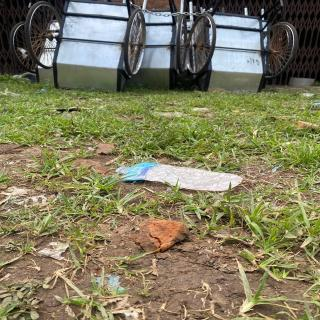Plastic-bottle: (111, 160, 247, 195)
